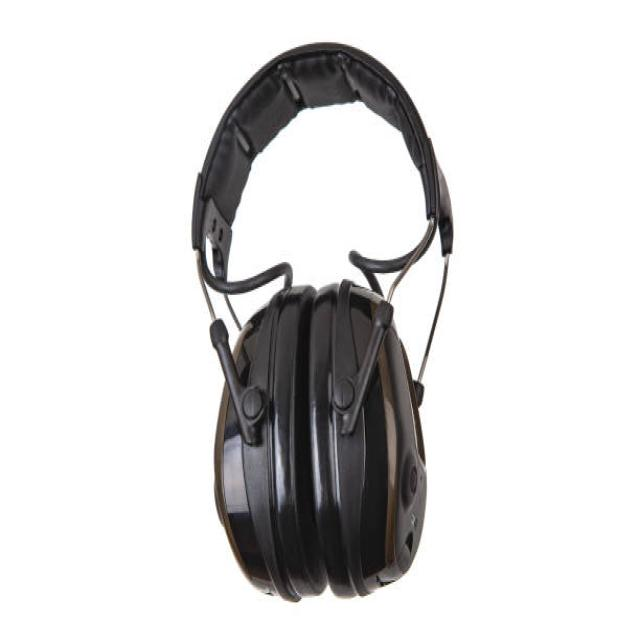Ear-protection: (111, 58, 499, 608)
